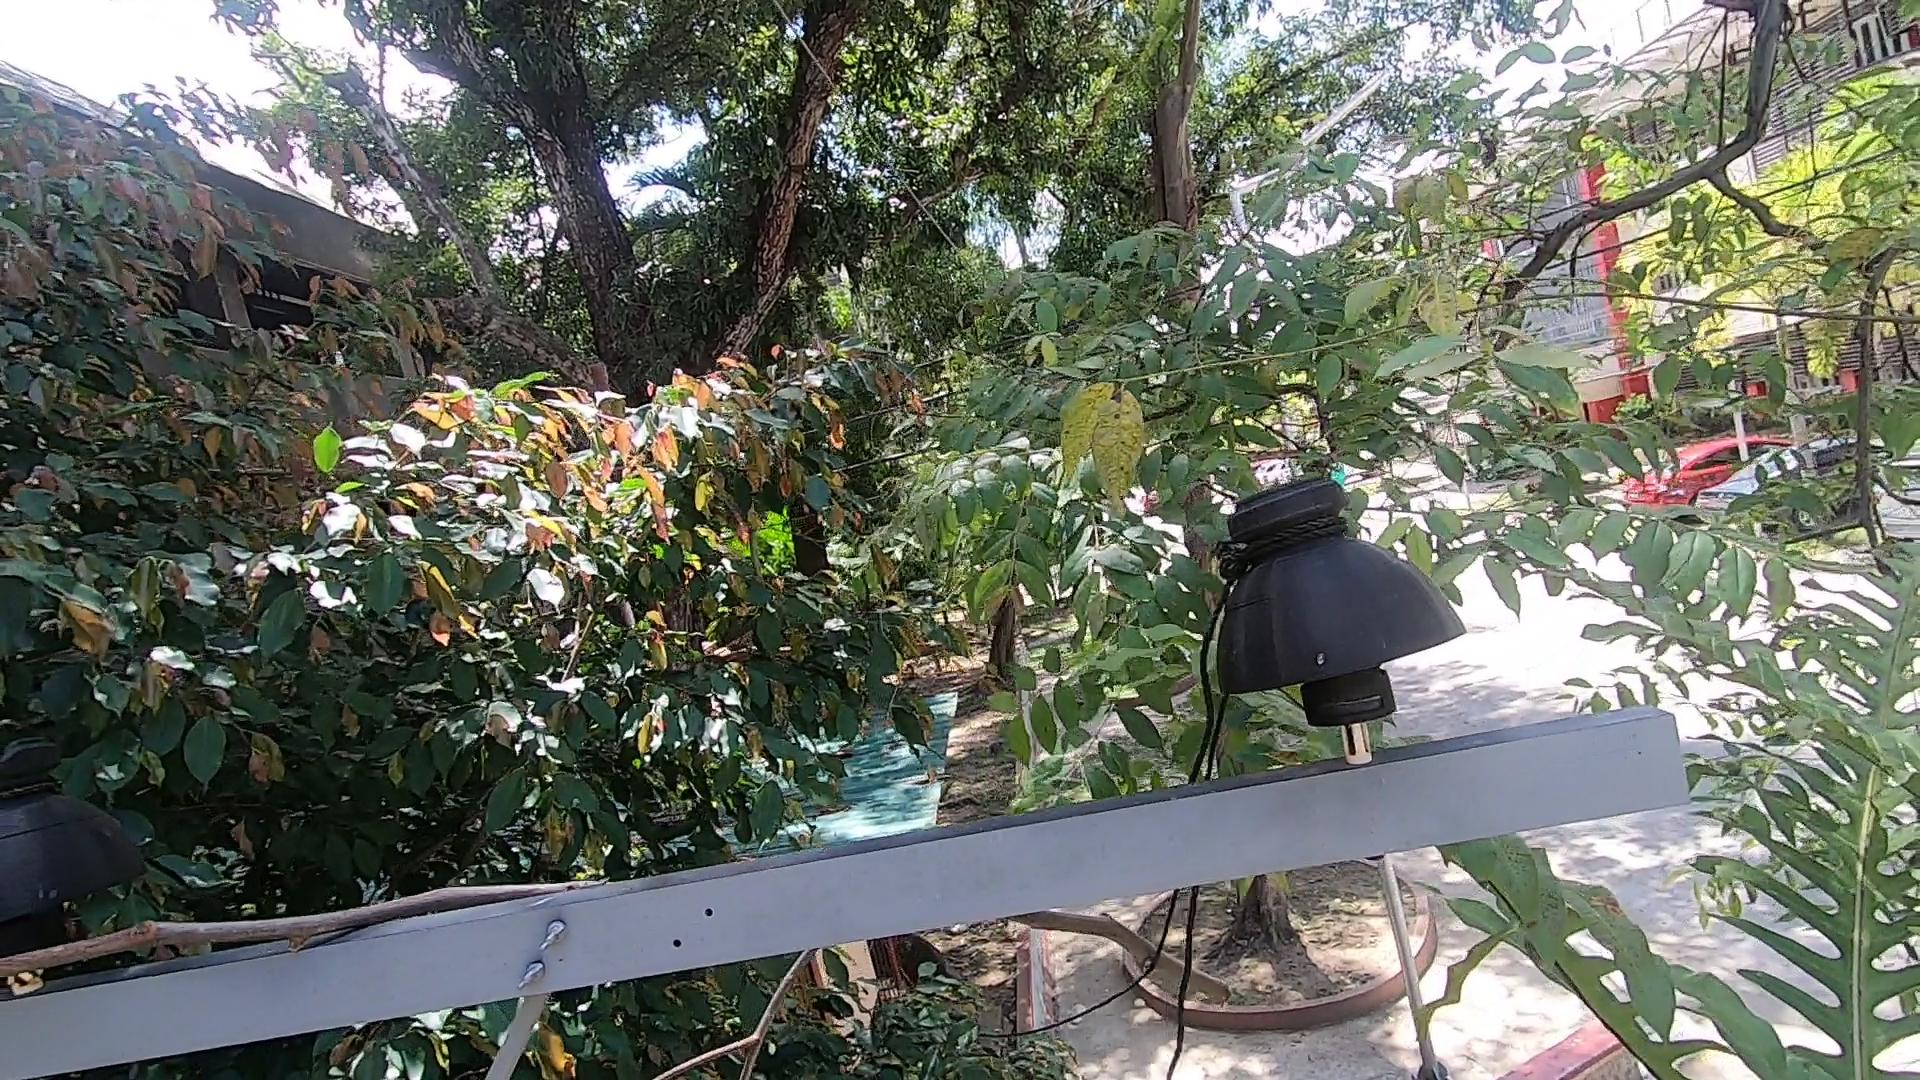tree branch: (1, 866, 575, 998), (1019, 913, 1247, 1011), (655, 951, 828, 1080)
